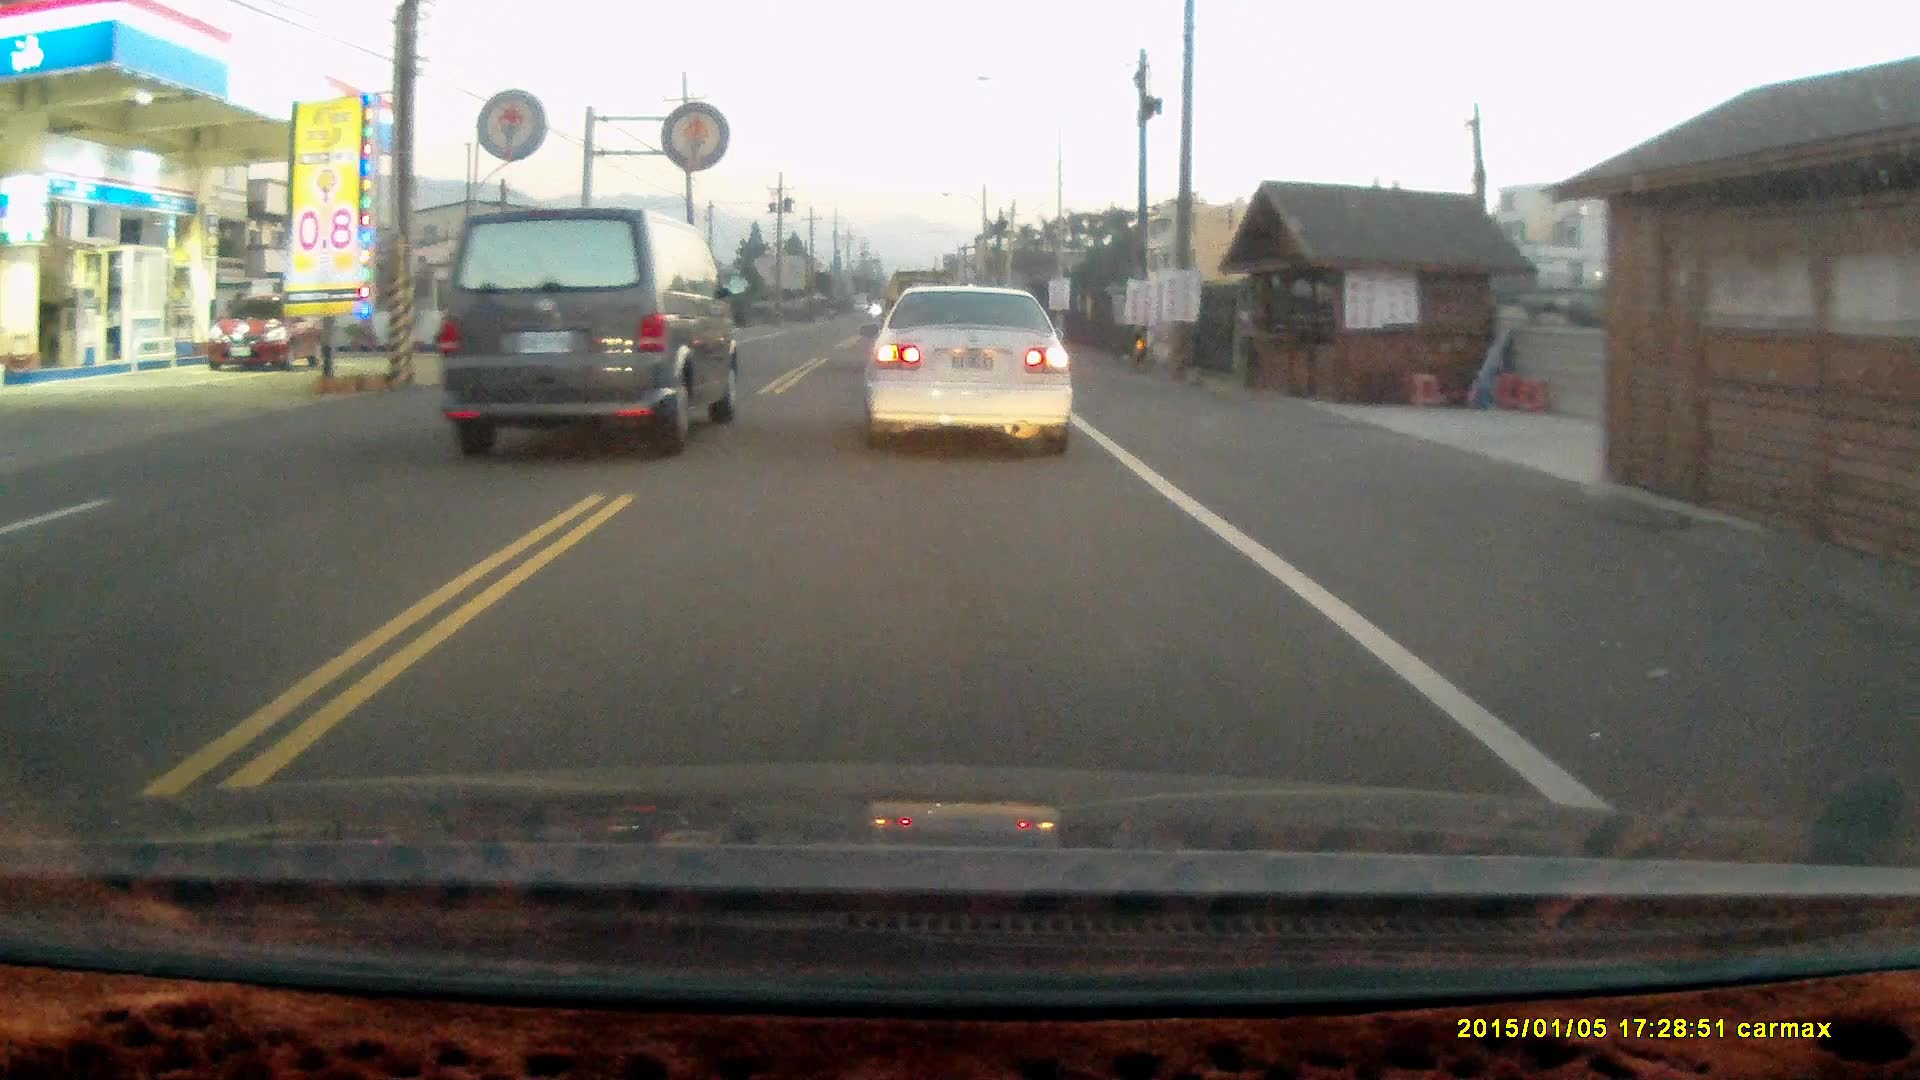vehicle: (431, 206, 742, 456), (862, 282, 1084, 462), (211, 294, 313, 375)
